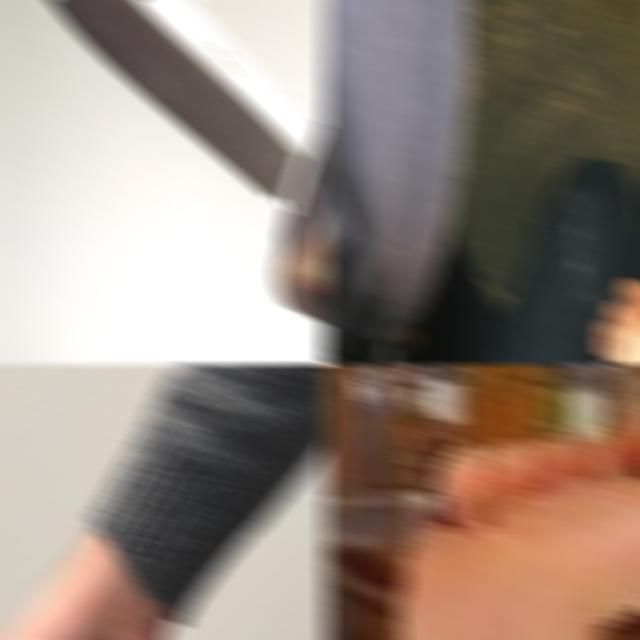Knife: (47, 0, 330, 250)
Knife_Handle: (0, 0, 330, 365), (322, 407, 640, 595)
